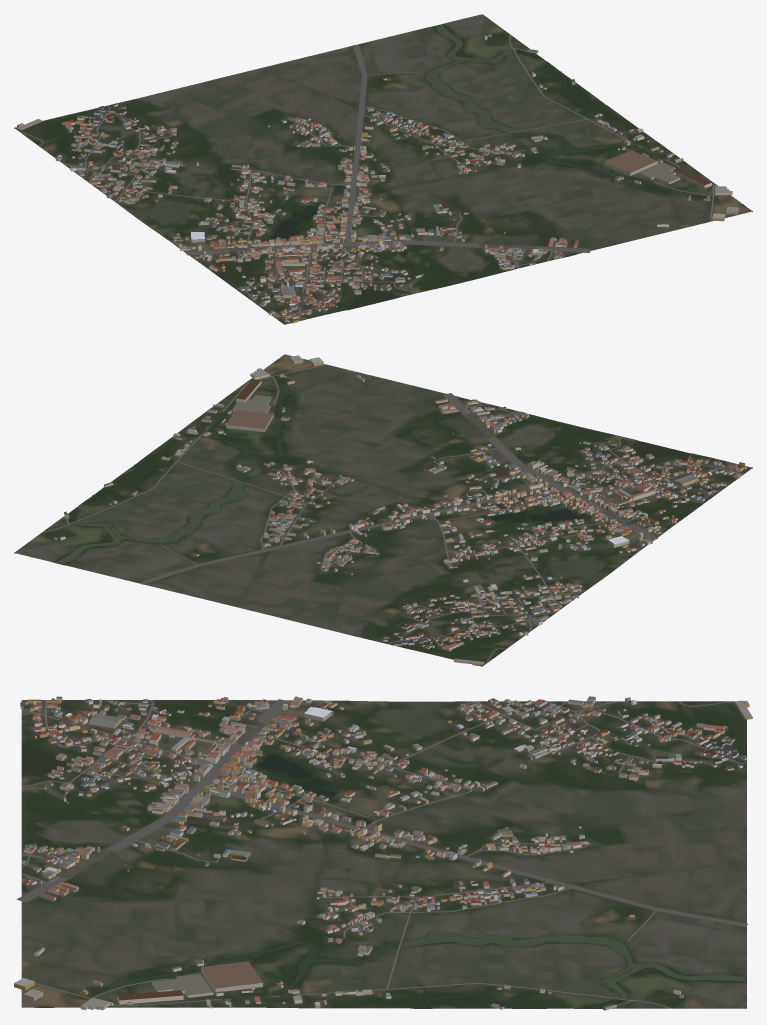
3 renders of one model, top to bottom at view 1: azimuth 30°, elevation 25°; view 2: azimuth 150°, elevation 25°; view 3: azimuth 270°, elevation 25°, orthographic. The views are drawn at different scales.
Parts seen in each view (by area): view 1: ground, buildings, roads, water; view 2: ground, buildings, roads, water; view 3: ground, buildings, roads, water.
Boxes of the visible parts, bbox=[...] form: ground: bbox=[14, 14, 752, 324]; buildings: bbox=[16, 34, 738, 323]; roads: bbox=[20, 34, 728, 321]; water: bbox=[270, 24, 746, 309]; ground: bbox=[14, 354, 752, 666]; buildings: bbox=[53, 355, 746, 665]; roads: bbox=[42, 364, 743, 662]; water: bbox=[56, 359, 687, 564]; ground: bbox=[21, 700, 746, 1008]; buildings: bbox=[14, 696, 752, 1010]; roads: bbox=[16, 699, 747, 1008]; water: bbox=[22, 743, 746, 1008].
Size of the model in its own units: 1420 by 21.32 by 1428.
